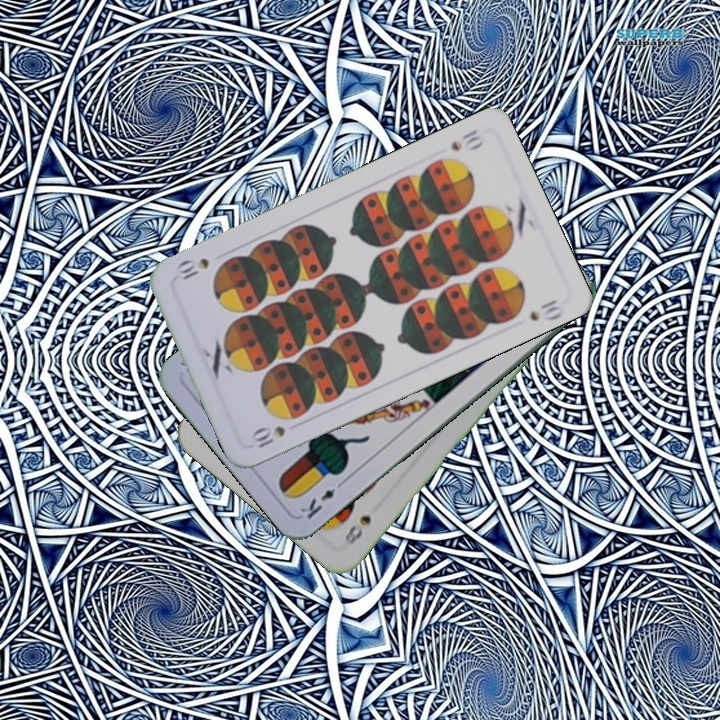EK: (296, 476, 348, 522)
S10: (247, 422, 288, 453), (446, 125, 488, 154)
S8: (340, 511, 374, 550)
